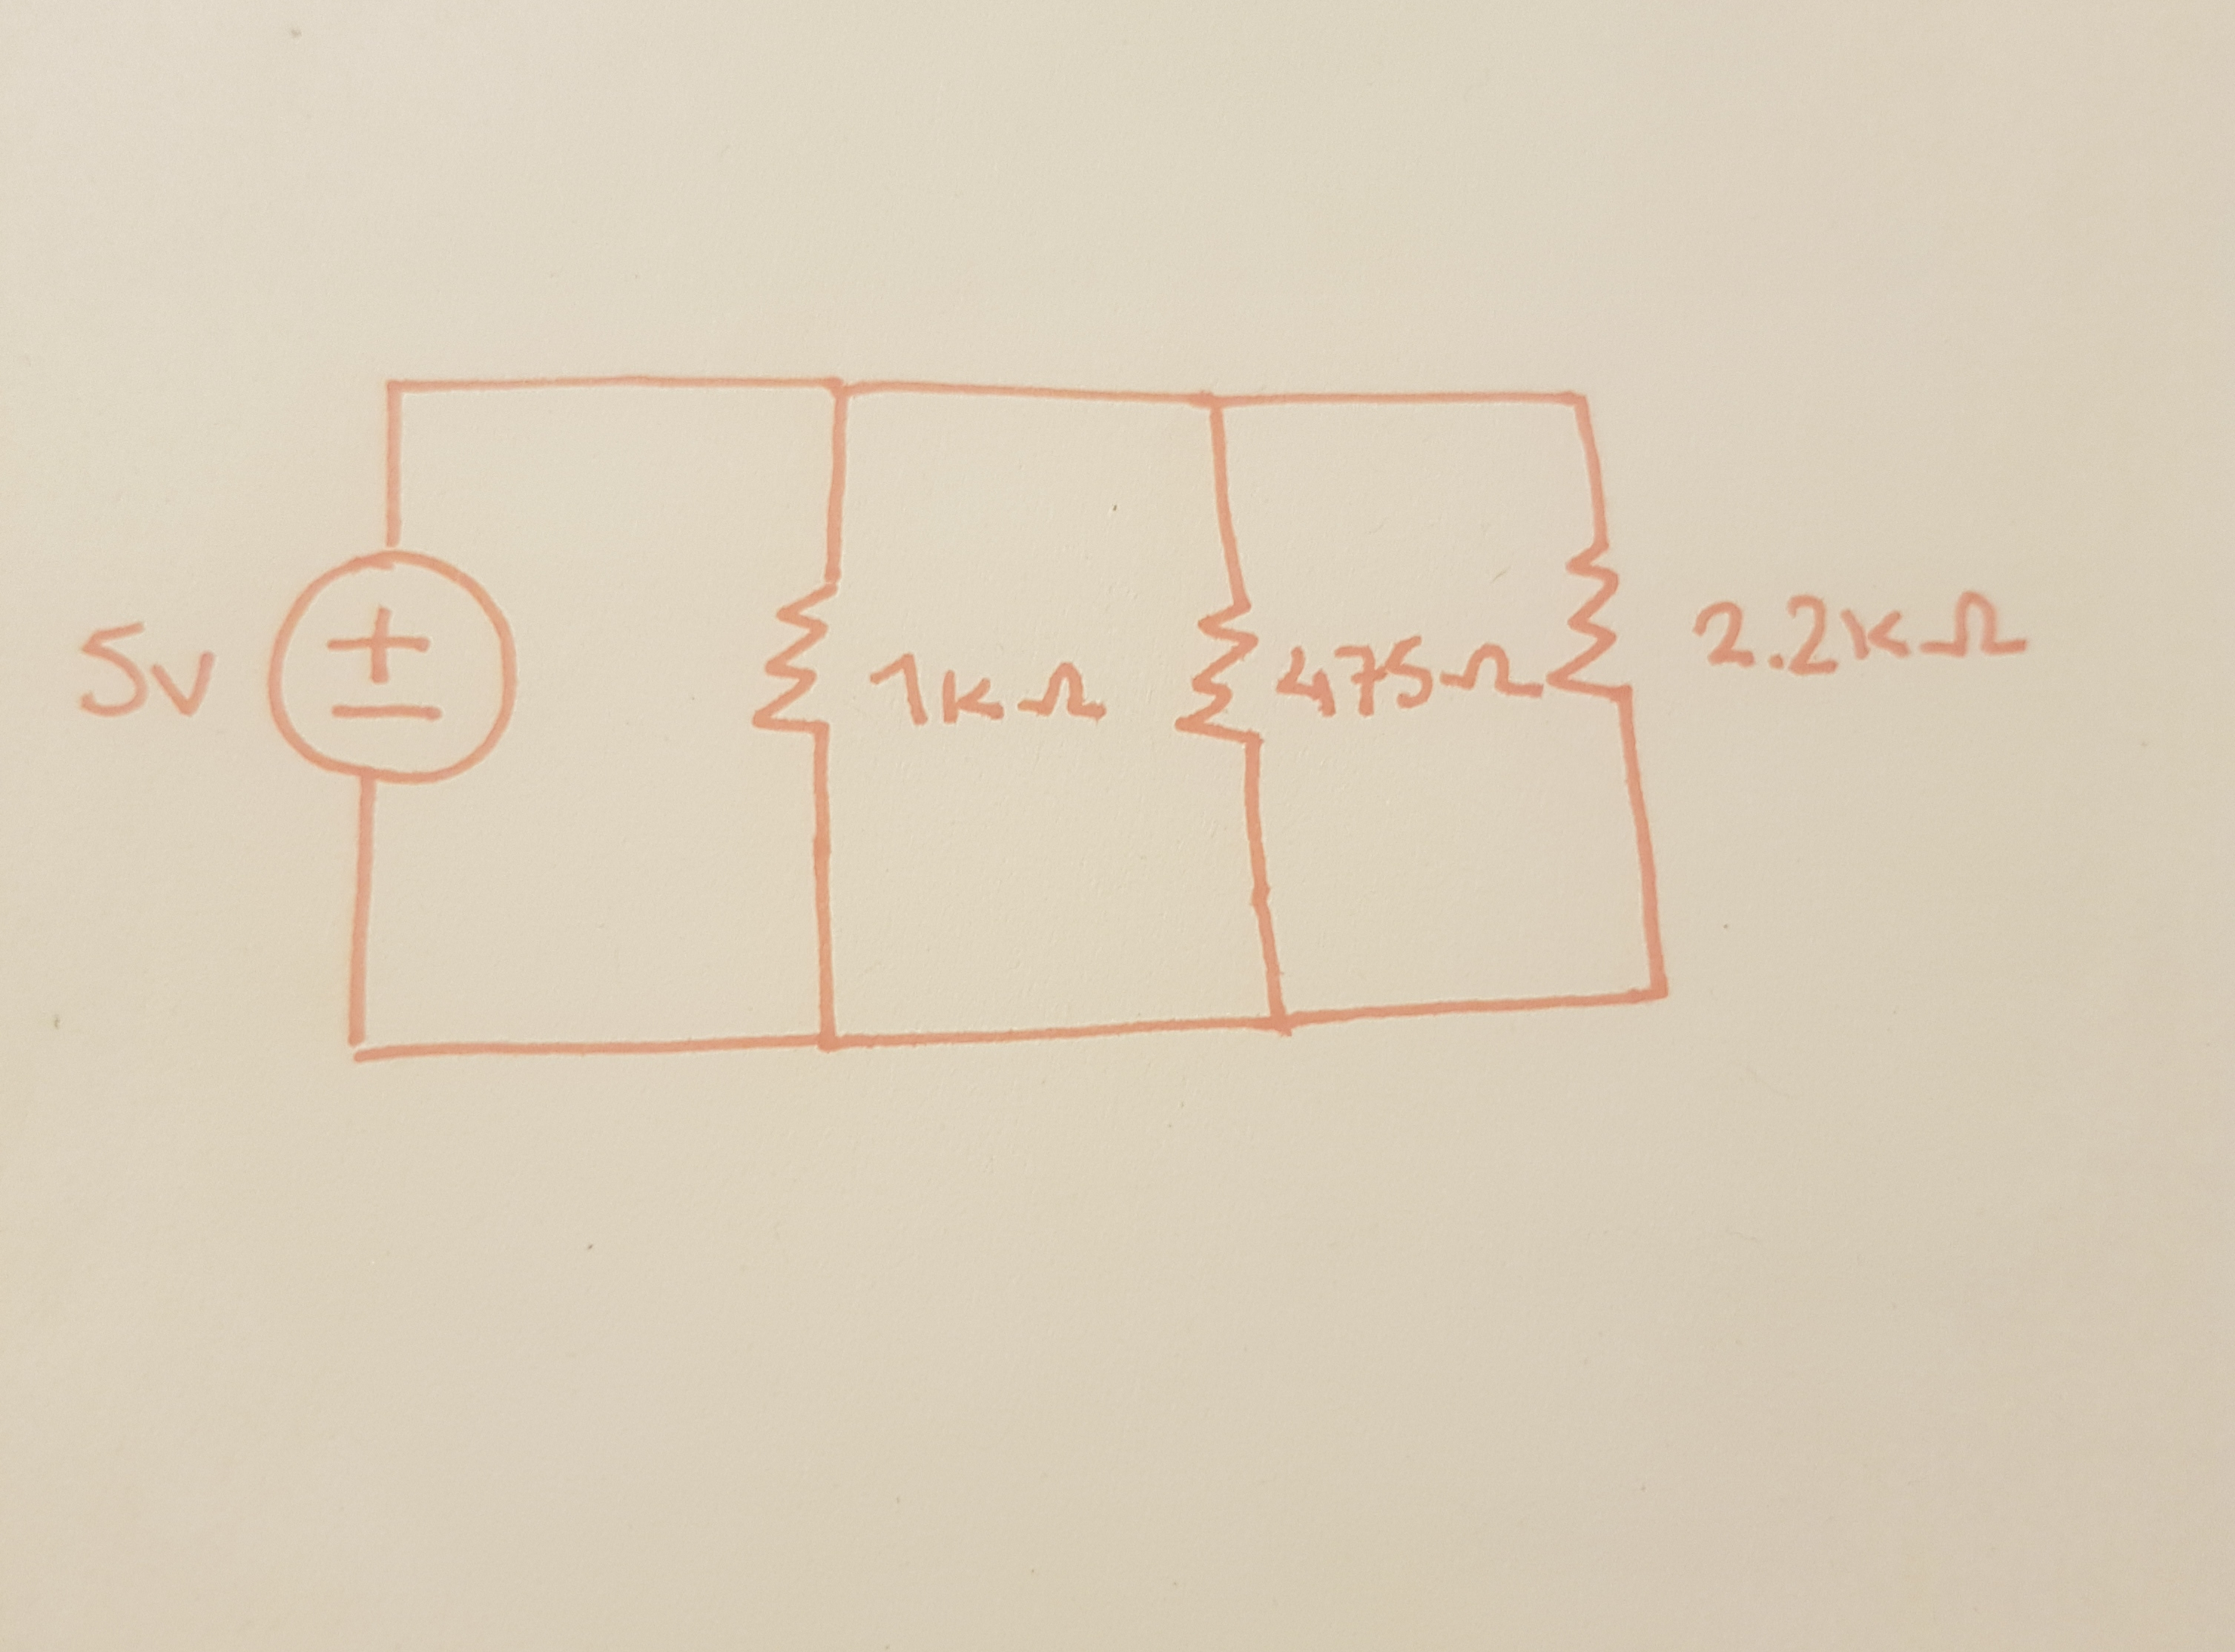junction: (1631, 960, 1688, 1024), (798, 1005, 854, 1071), (326, 1015, 387, 1072), (363, 359, 423, 413), (1253, 993, 1307, 1052), (814, 364, 869, 415), (1551, 370, 1605, 420), (1194, 377, 1242, 430)
resistor: (737, 564, 857, 757), (1539, 522, 1652, 724), (1171, 571, 1277, 769)
text: (1683, 574, 2035, 684), (1268, 621, 1550, 718), (864, 642, 1111, 734), (75, 613, 222, 734)
voltage.dc: (255, 540, 521, 790)
